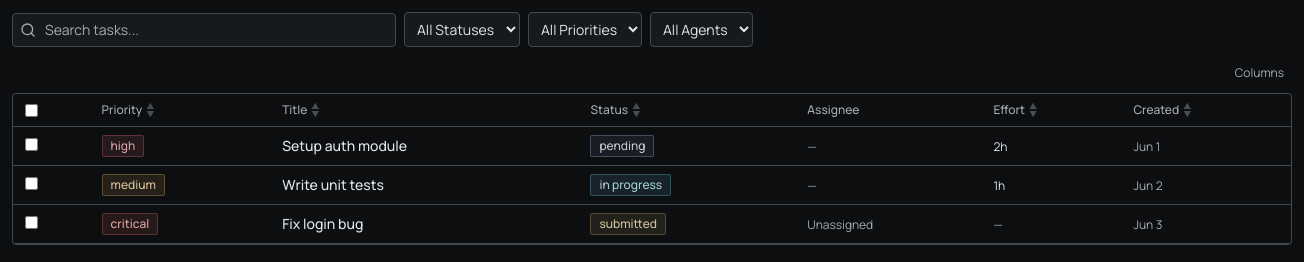
Test: TaskTableView › shows clear filters button when filters are active
Step 1. Select "Pending" in the dropdown with test id "filter-status" → (462, 30), box [404, 12, 520, 47]
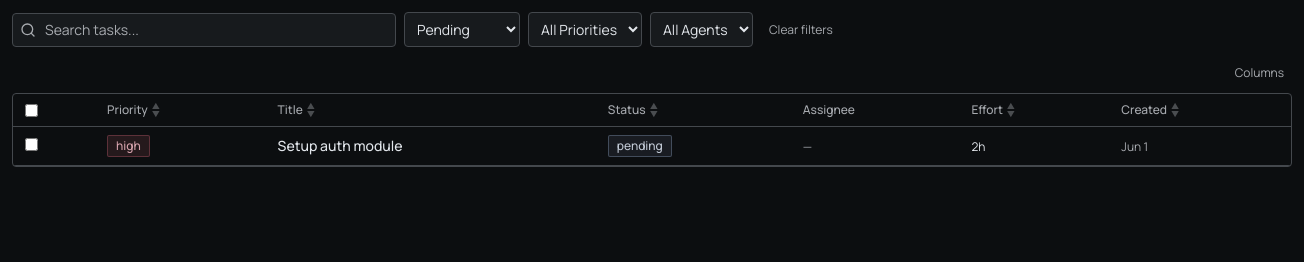
Now the button "Clear filters" is shown, box [761, 16, 841, 44]
